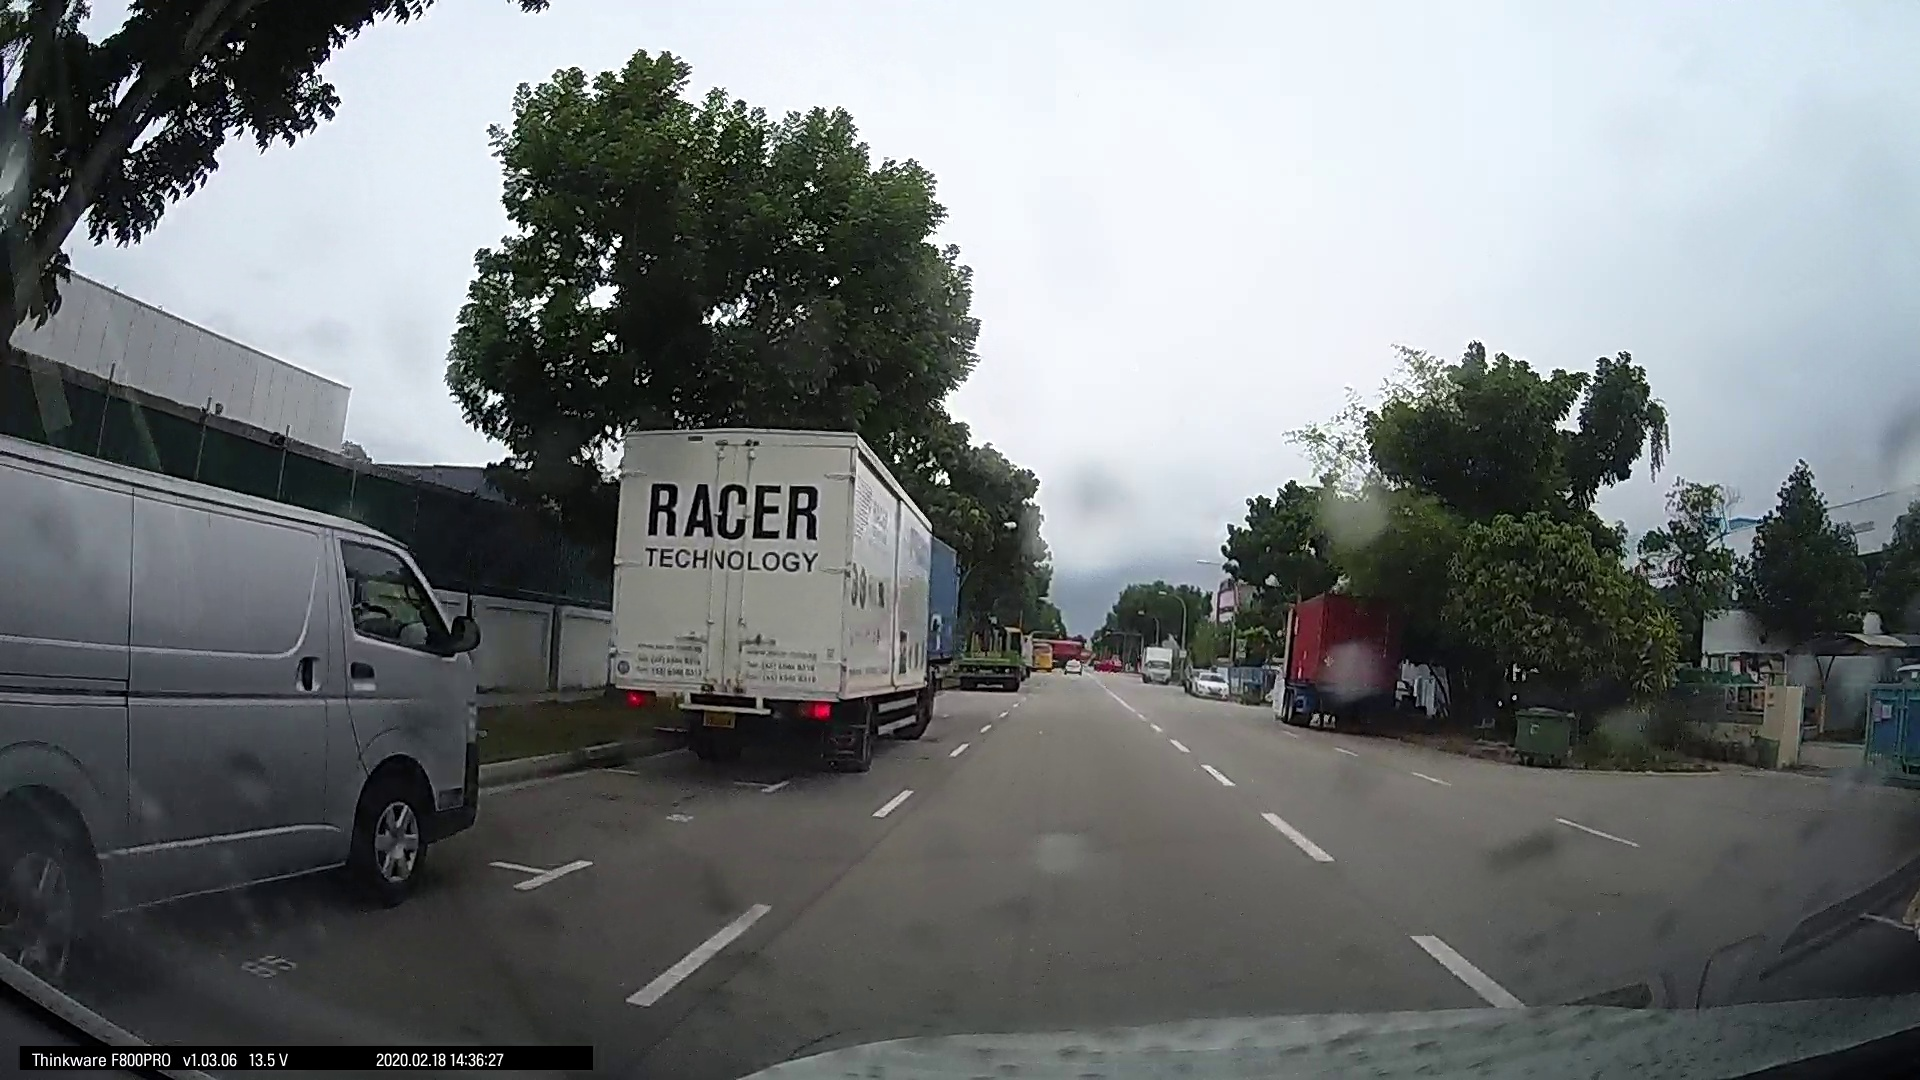Heavy Vehicle: (597, 415, 947, 775), (1271, 588, 1414, 732)
Light Vehicle: (1, 464, 491, 964)
